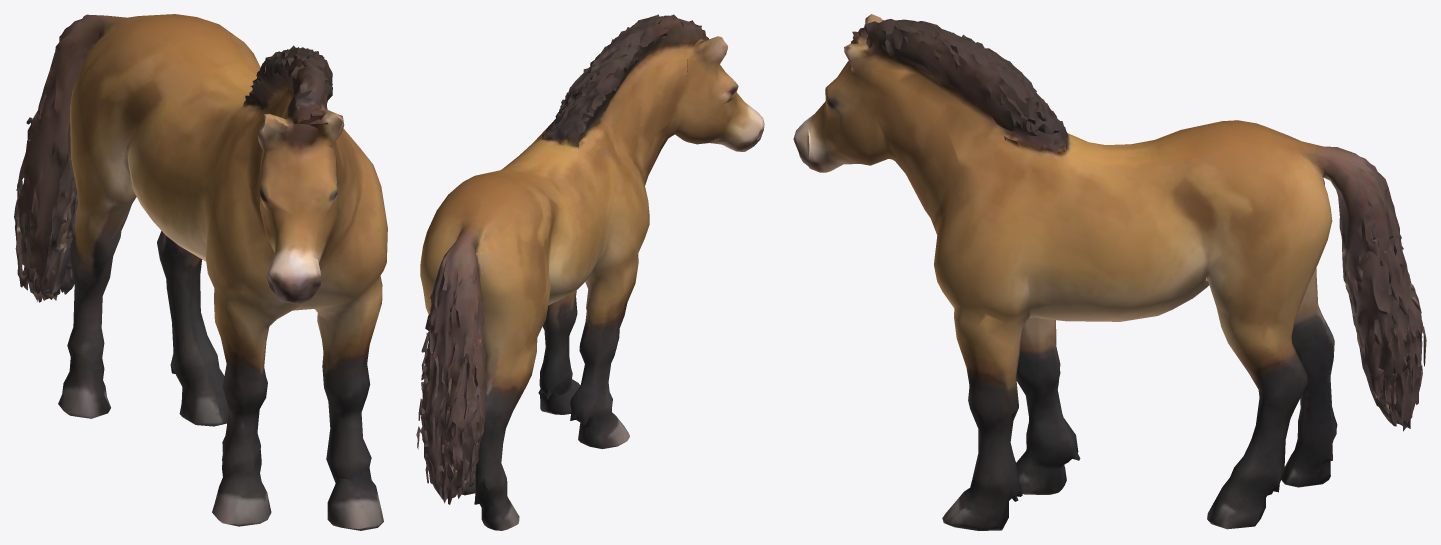
The model's file is horse-wild.phone.glb.
3 renders of one model, left to right at view 1: azimuth 30°, elevation 25°; view 2: azimuth 150°, elevation 25°; view 3: azimuth 270°, elevation 25°, orthographic. The views are drawn at different scales.
Visible parts, largest first — view 1: horse-wild.raw; view 2: horse-wild.raw; view 3: horse-wild.raw.
Part boxes in pixels (<box>): horse-wild.raw: <box>14,14,387,530</box>; horse-wild.raw: <box>416,14,764,530</box>; horse-wild.raw: <box>793,14,1426,530</box>.
Size of the model in its own units: 0.7786 by 1.75 by 2.16.
Materials: 1 (1 with a texture image).
